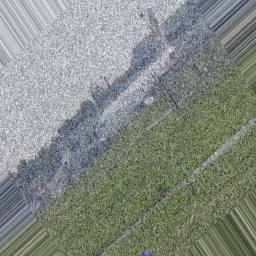Airplane: (94, 21, 177, 136)
